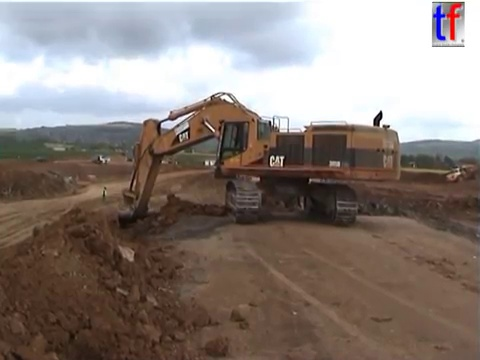excavator: (113, 90, 403, 243)
truck: (442, 162, 479, 184), (92, 153, 110, 166)
worker: (100, 184, 108, 205)
